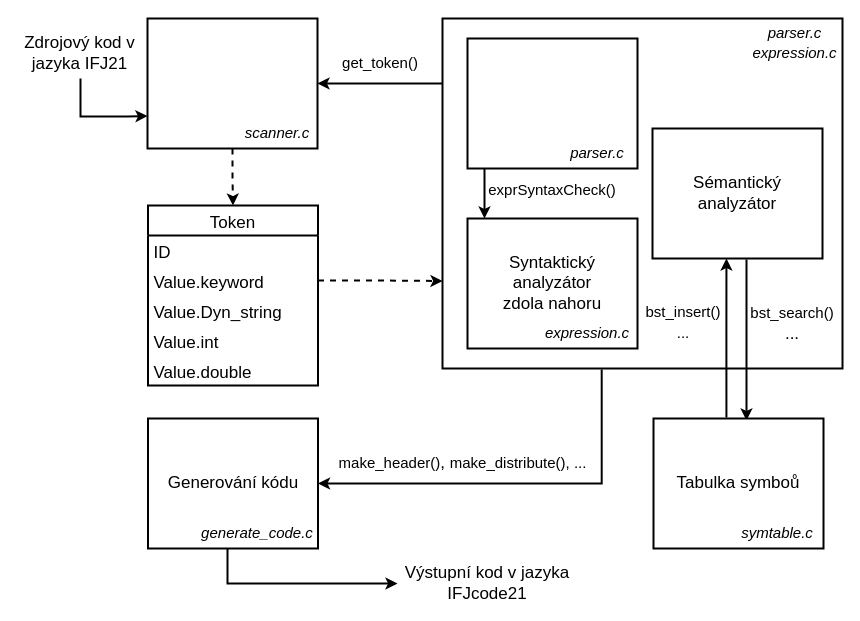
This 860x621 diagram has some shape labels left out. Here are the shapes that lost their labels. From the top down, the box of each, then its label:
(146, 17, 318, 149): Lexikální analyzátor
(466, 37, 638, 169): Syntaktický analyzátor shora dolu
